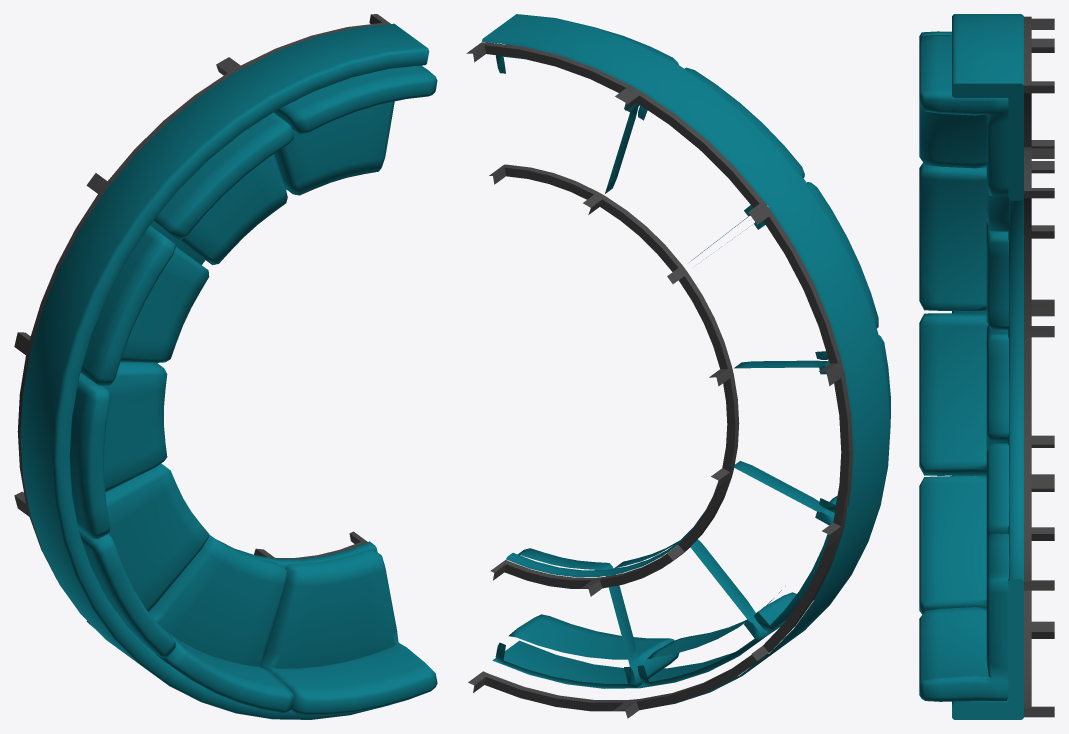
The model's file is curved_couch.glb.
The picture shows the model from 3 angles, left to right: view 1: azimuth 30°, elevation 25°; view 2: azimuth 150°, elevation 25°; view 3: azimuth 270°, elevation 25°; orthographic projection.
Visible parts, largest first — view 1: couch_curved; view 2: couch_curved; view 3: couch_curved.
Part boxes in pixels (bbox=[...]): couch_curved: bbox=[14, 14, 437, 719]; couch_curved: bbox=[466, 14, 890, 718]; couch_curved: bbox=[919, 14, 1054, 719].
Bounding box in the file's own units: 3.13 × 5.22 × 0.987.
